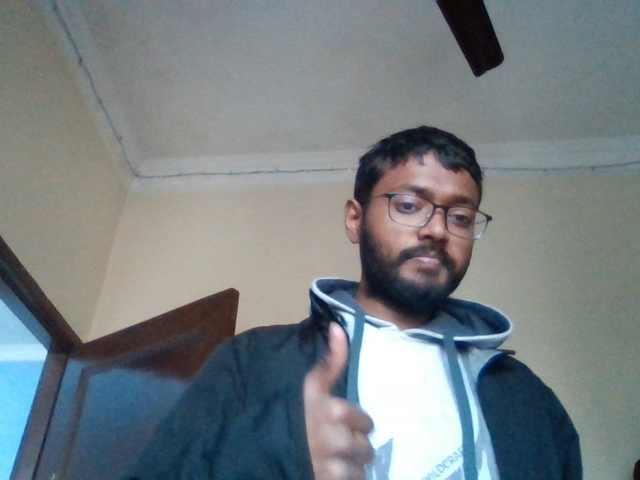good: (283, 321, 391, 480)
